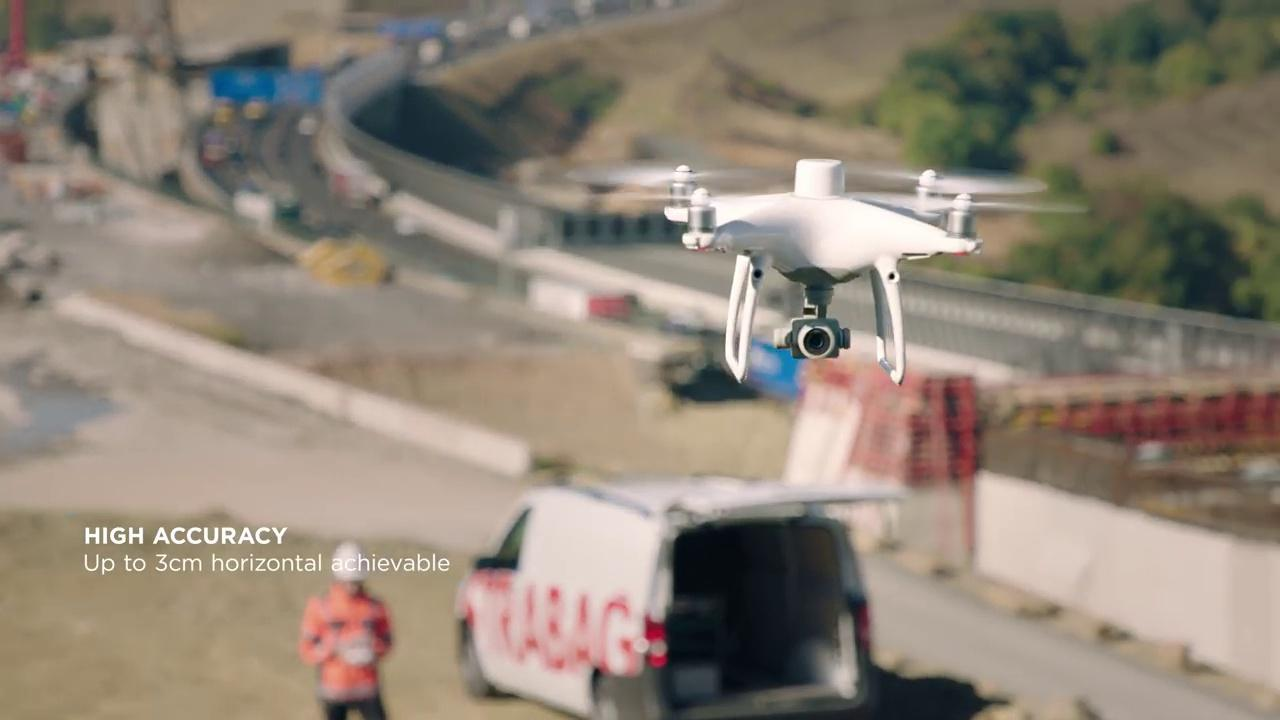drone: (562, 155, 1086, 389)
